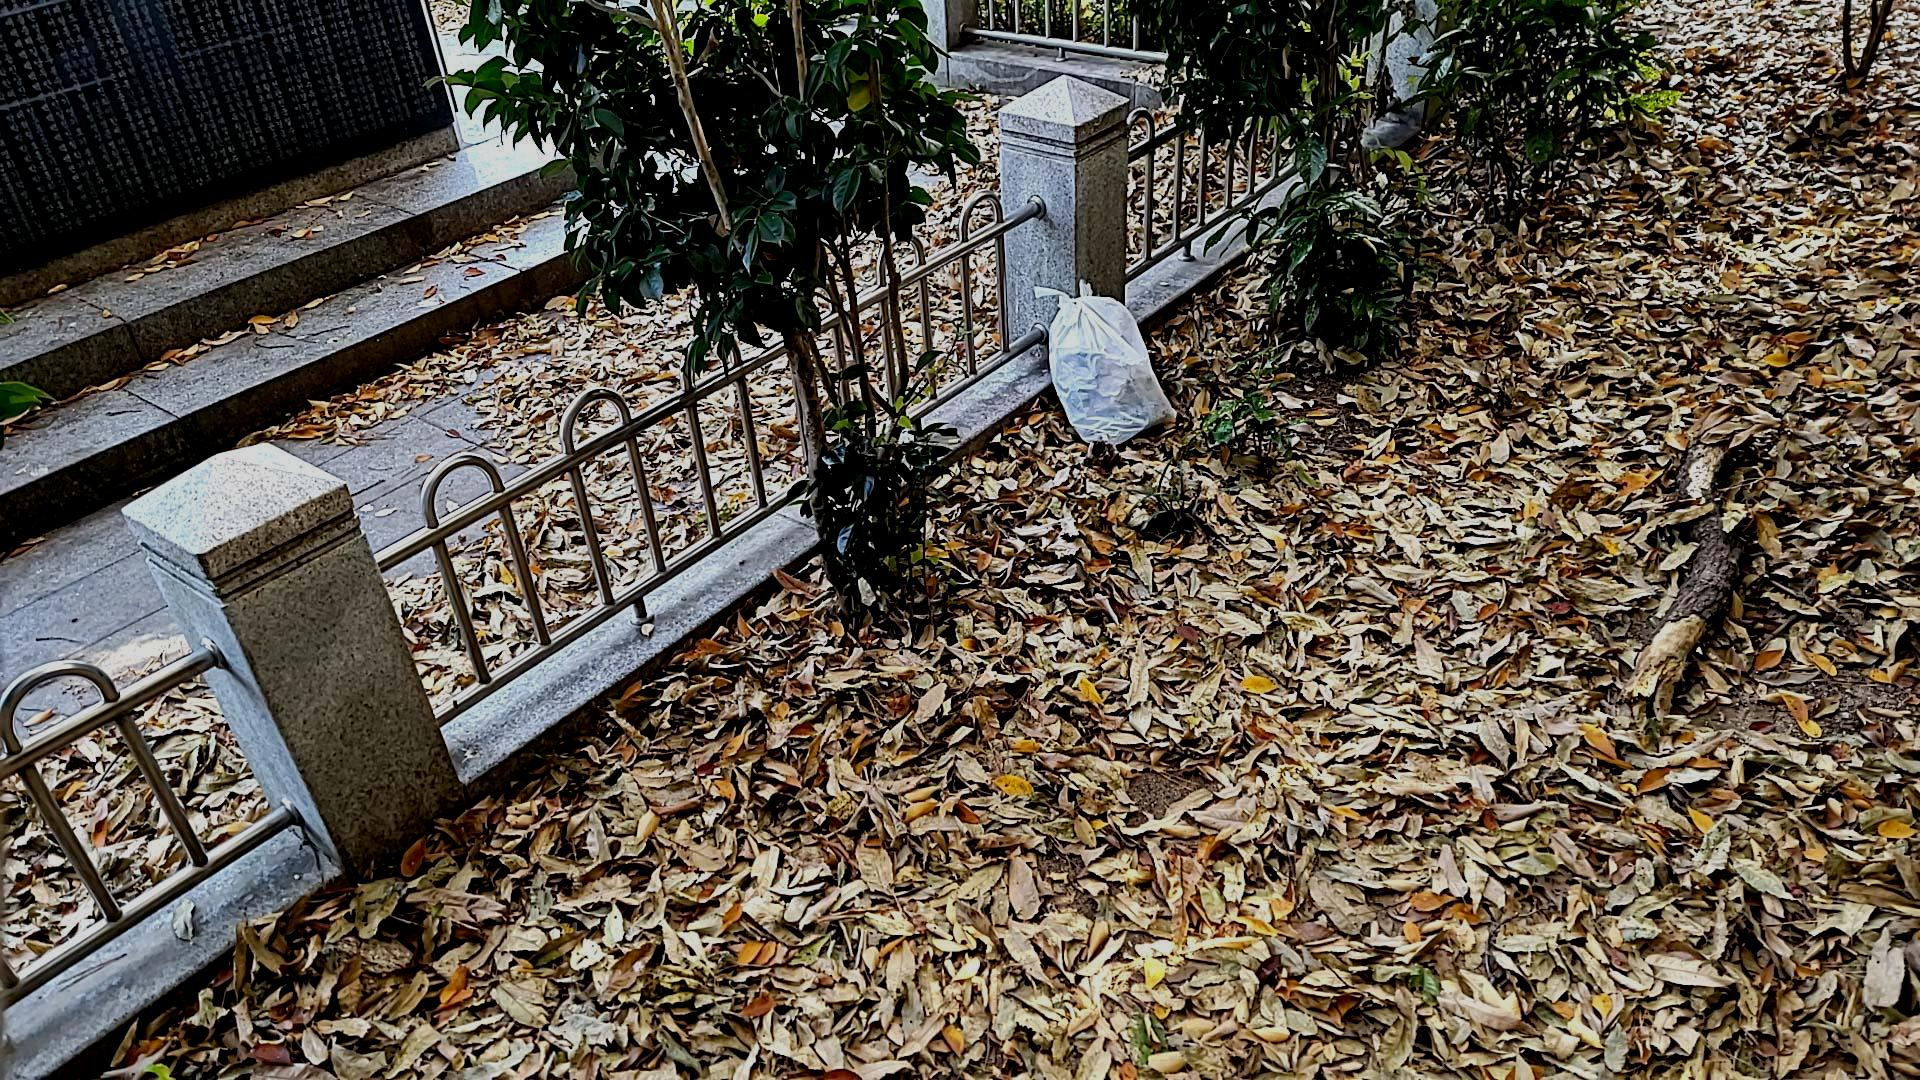white_bag: (1026, 262, 1185, 452)
